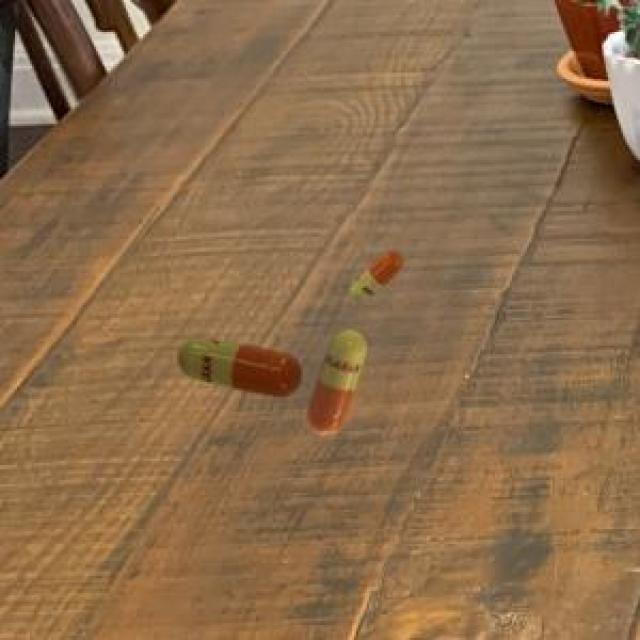Alaxan: (166, 324, 304, 400), (308, 321, 369, 449), (336, 226, 414, 310)
